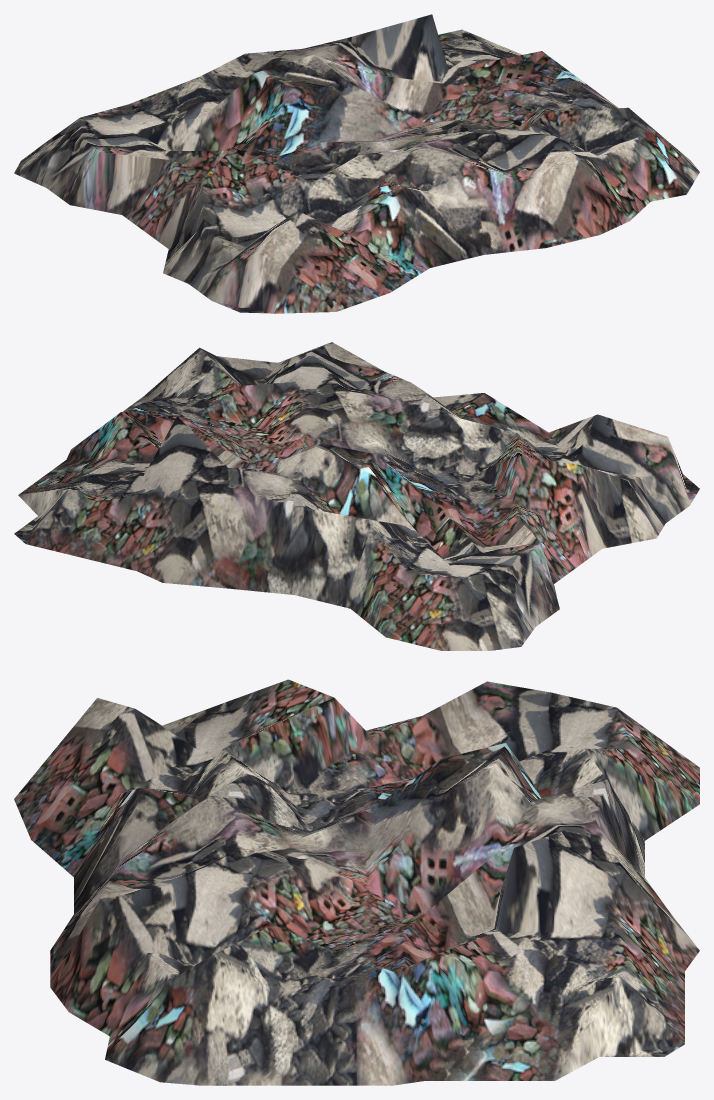
The model's file is RubPile2.FBX.
The picture shows the model from 3 angles, top to bottom: view 1: azimuth 30°, elevation 25°; view 2: azimuth 150°, elevation 25°; view 3: azimuth 270°, elevation 25°; orthographic projection. The views are drawn at different scales.
Visible parts, largest first — view 1: Plane01; view 2: Plane01; view 3: Plane01.
Part boxes in pixels (x1,y1,x2,y2): Plane01: [14, 14, 699, 313]; Plane01: [14, 342, 699, 650]; Plane01: [14, 679, 699, 1085].
Bounding box in the file's own units: 6.78 × 1.24 × 5.54.
